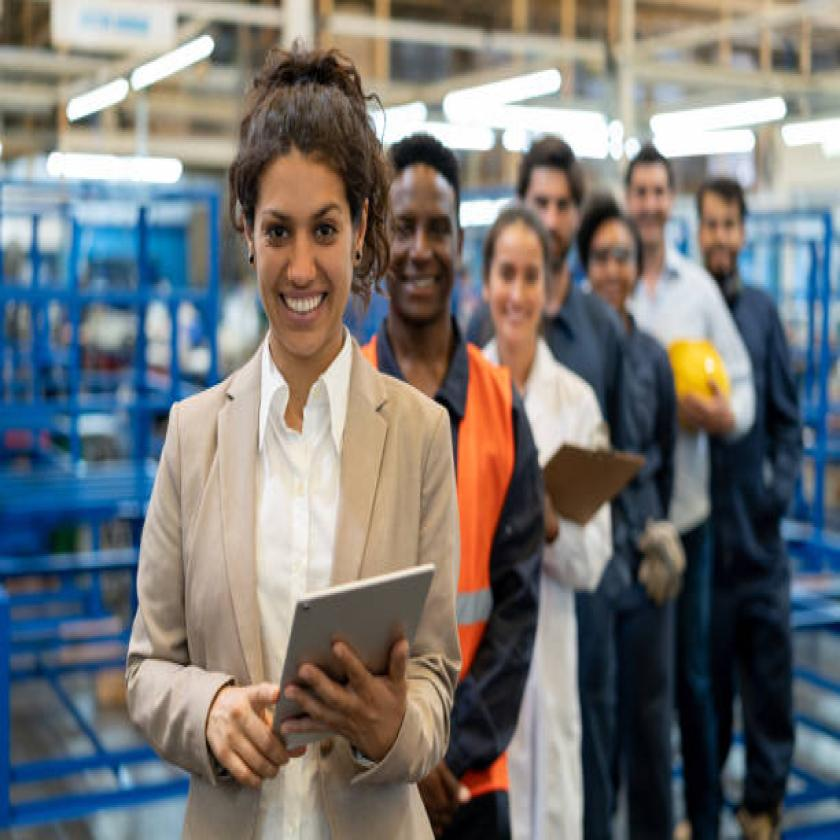Sin_casco: (205, 14, 391, 373), (372, 134, 461, 354), (510, 121, 589, 270), (479, 198, 551, 360), (579, 187, 648, 330), (688, 164, 759, 281), (627, 150, 685, 251)
